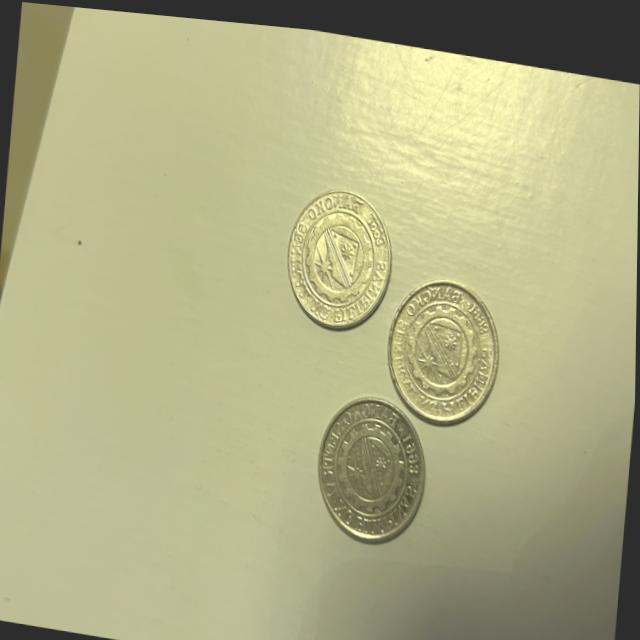1_Old_Back: (329, 402, 422, 521), (400, 291, 485, 402), (298, 198, 377, 301)
